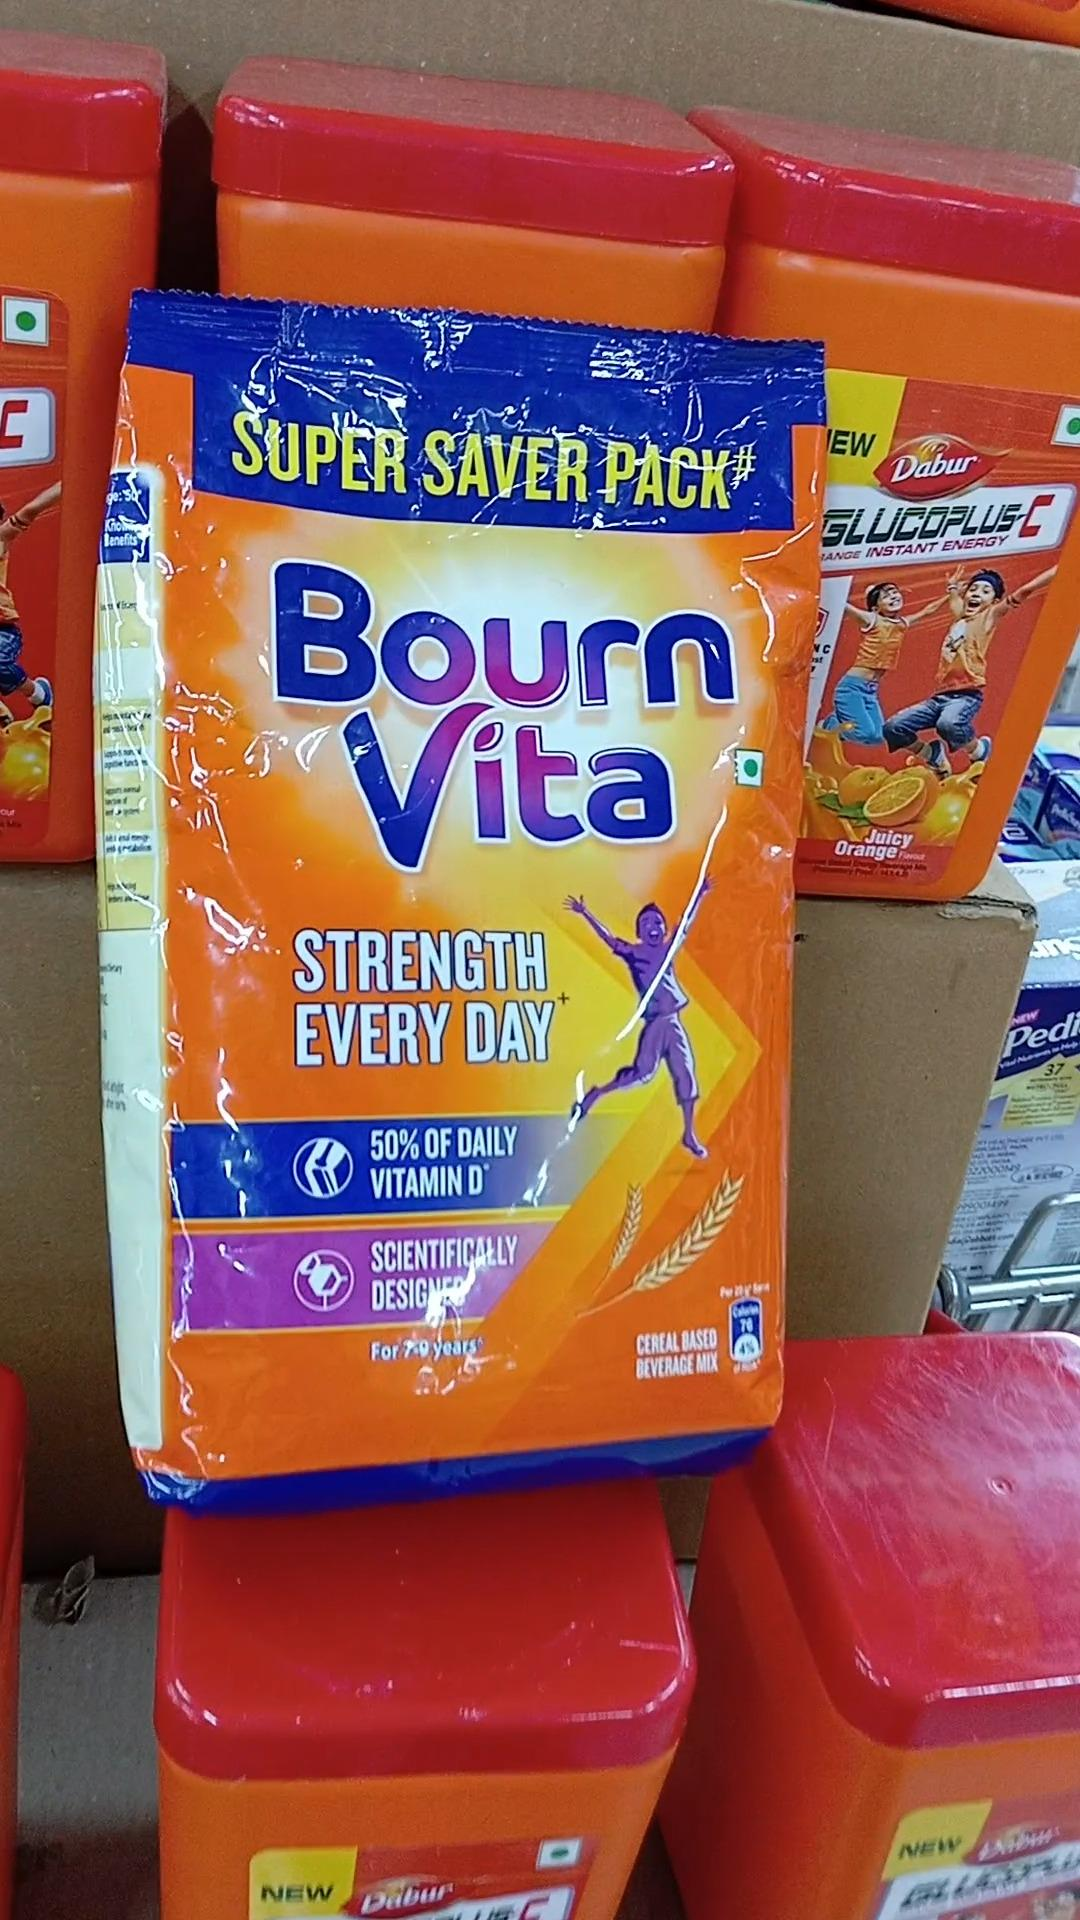BOURN_VITA_1_KG_POUCH: (100, 280, 785, 1476)
